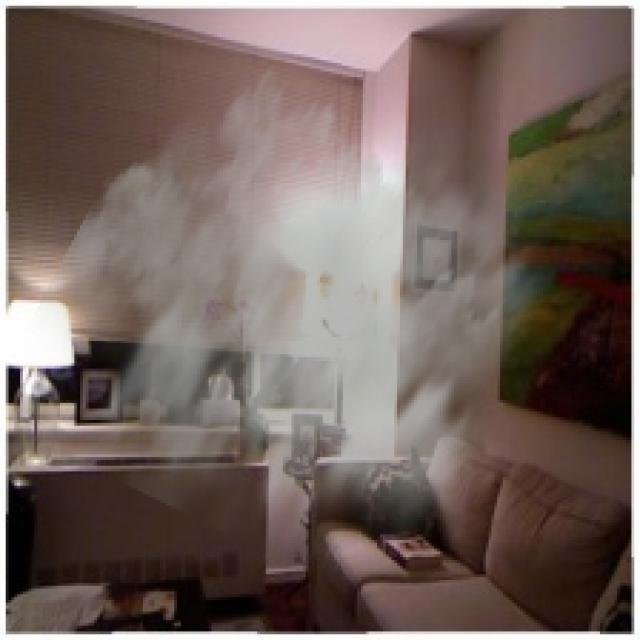Smoke: (26, 62, 566, 618)
